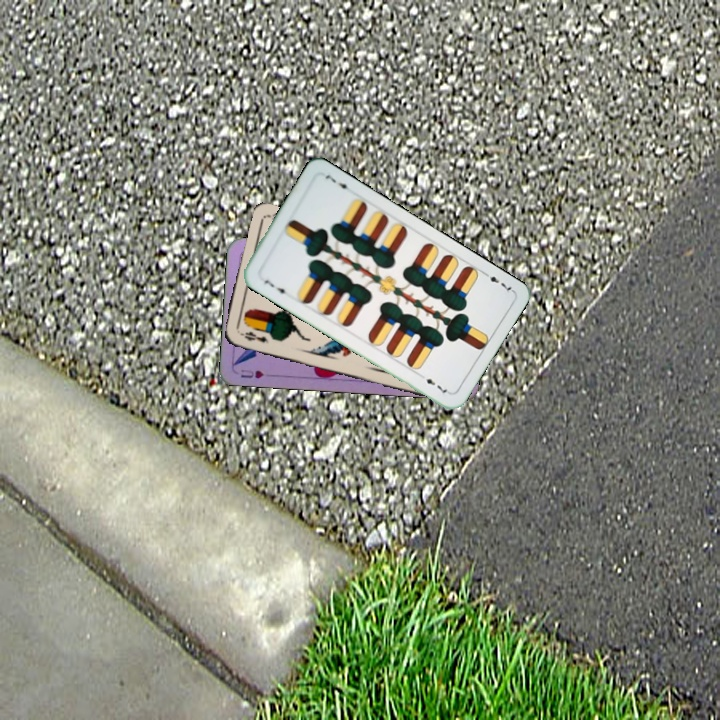E7: (479, 268, 516, 296), (260, 276, 290, 299)
EO: (235, 327, 271, 346)
HU: (237, 365, 266, 381)
